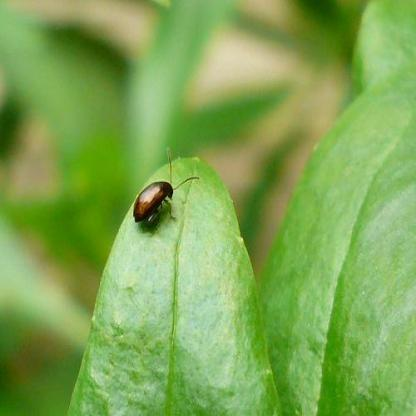beetle: (131, 157, 196, 228)
